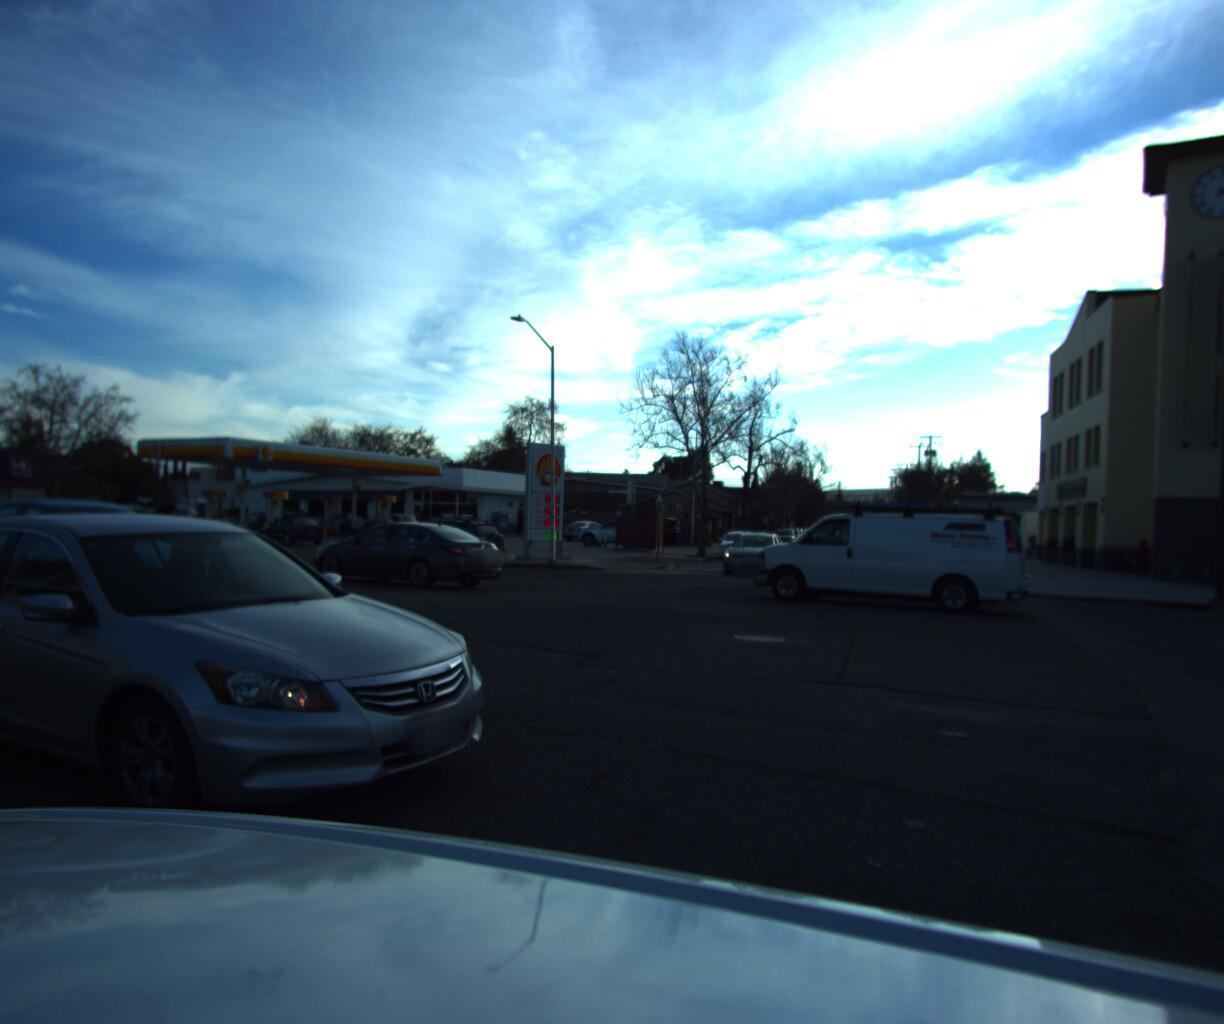car: (0, 504, 548, 899), (741, 493, 1029, 617), (0, 495, 236, 626), (306, 514, 514, 592), (366, 513, 507, 568), (149, 509, 264, 551), (711, 522, 791, 575), (0, 499, 56, 550), (569, 511, 657, 541), (0, 490, 72, 524), (177, 498, 251, 529), (614, 508, 685, 540), (272, 510, 335, 543), (147, 496, 215, 524), (353, 505, 425, 531), (711, 521, 761, 556), (301, 503, 370, 528), (556, 513, 614, 536), (296, 489, 354, 509), (773, 522, 799, 542)
